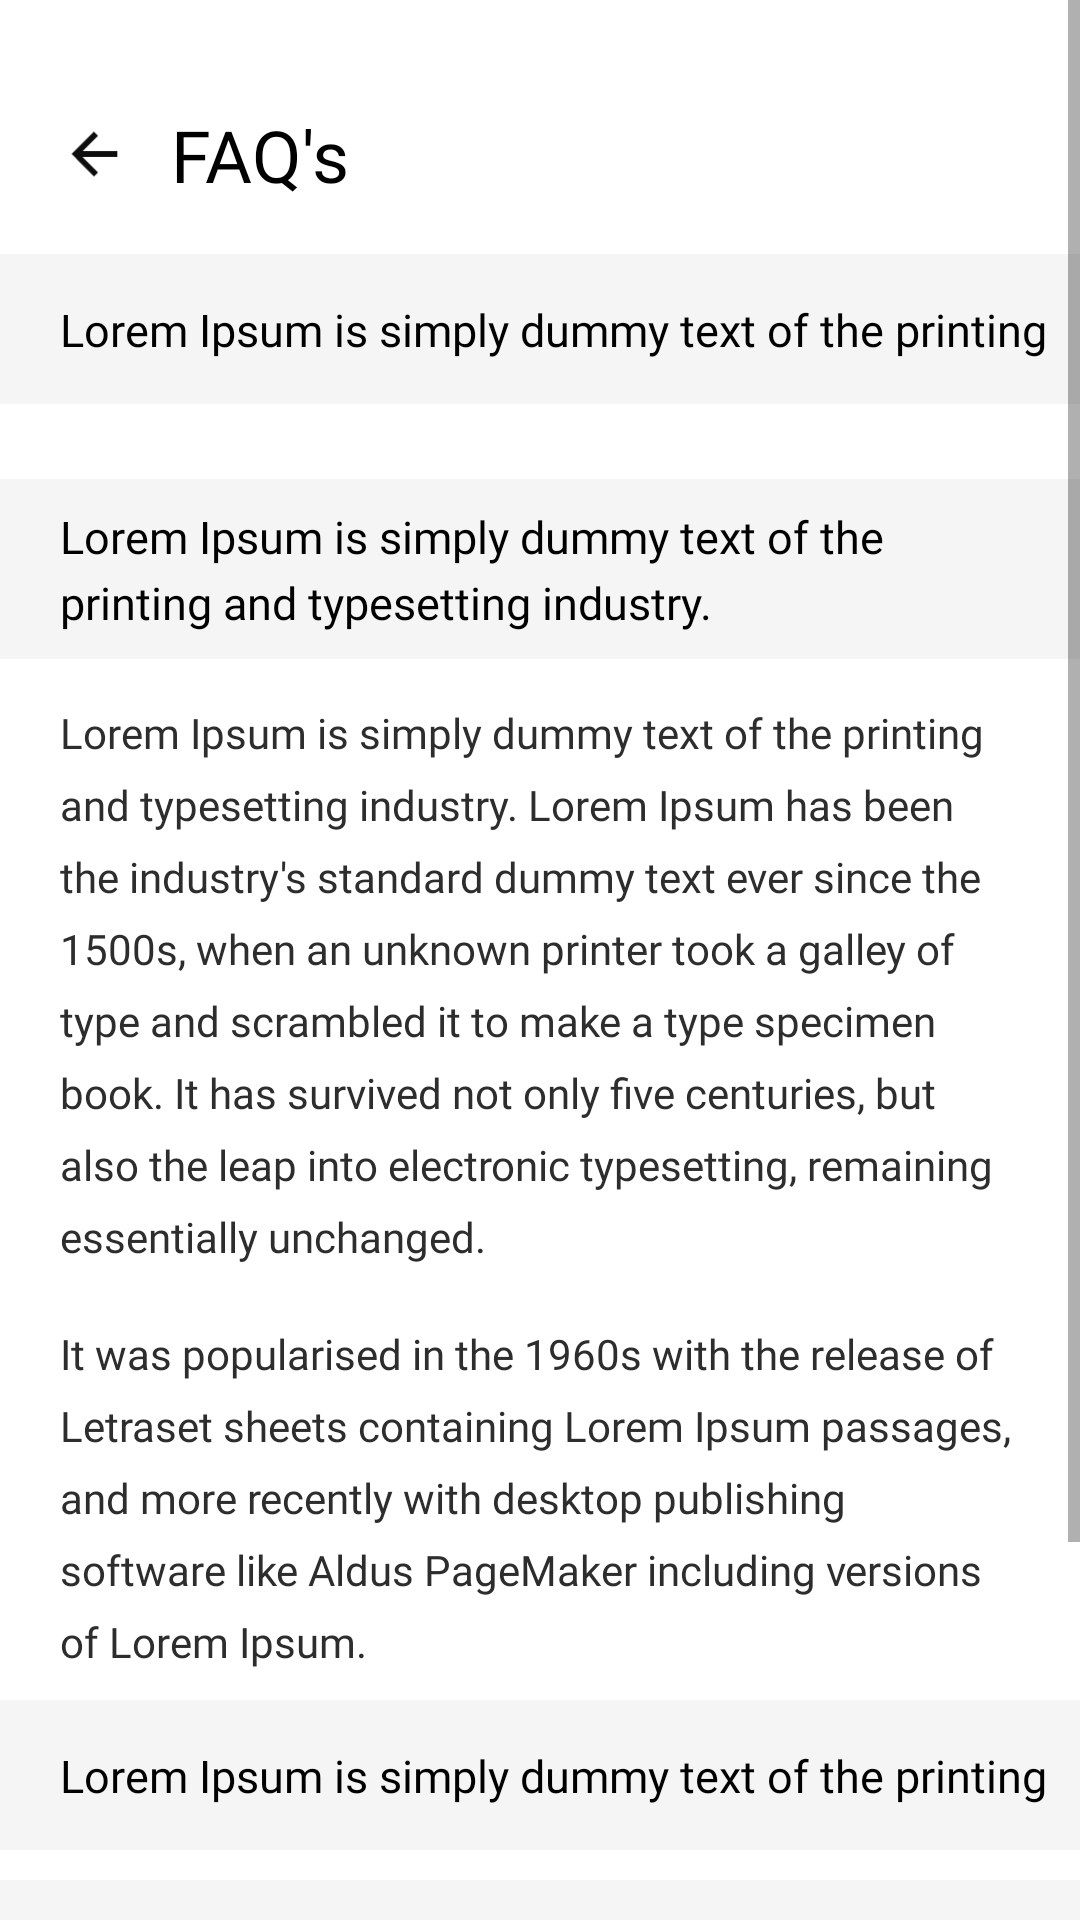

Screen size 1080×1920. Icon name, then its center in pixels as point (x, y):
back: point (94, 154)
